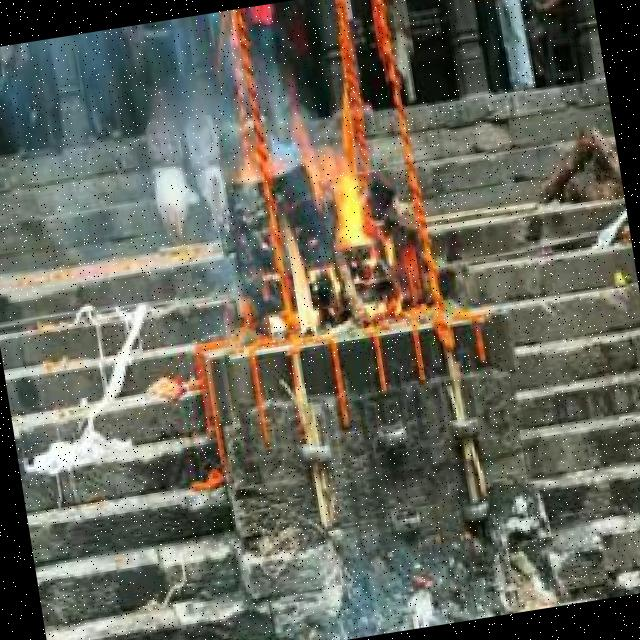fire: (323, 169, 405, 253)
